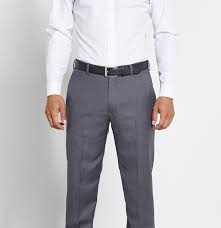F_belt: (71, 55, 153, 80)
F_dress pants: (67, 55, 159, 225)
